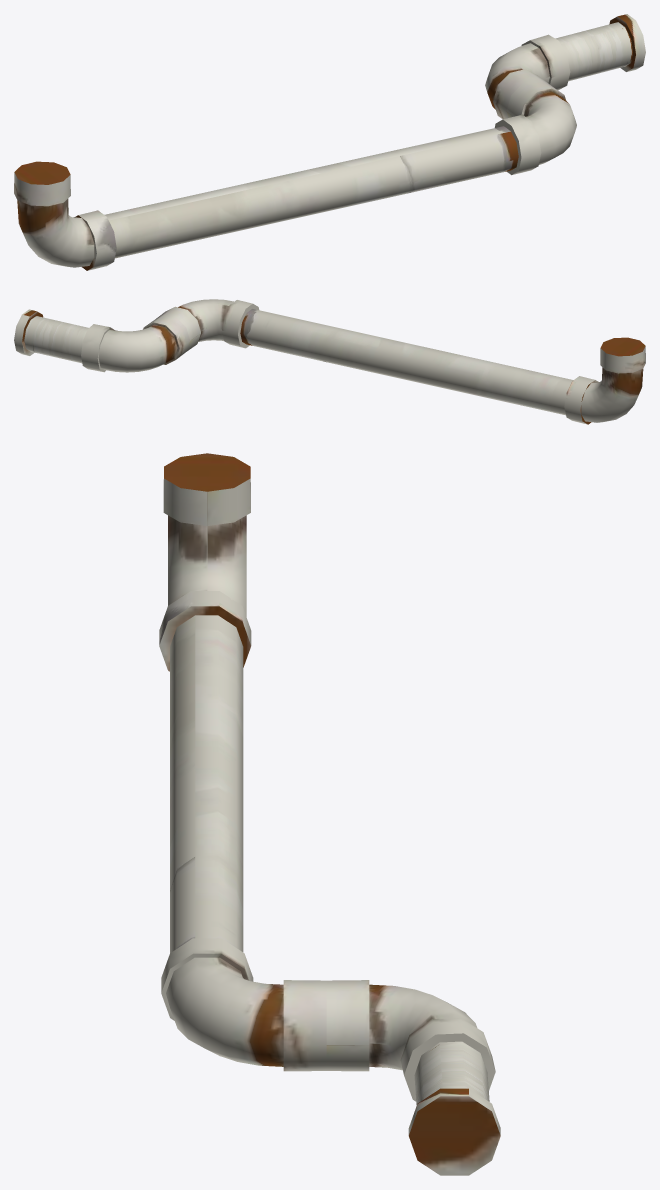
The picture shows the model from 3 angles, top to bottom: view 1: azimuth 30°, elevation 25°; view 2: azimuth 150°, elevation 25°; view 3: azimuth 270°, elevation 25°; orthographic projection. The views are drawn at different scales.
Parts seen in each view (by area): view 1: body0_model0_lod0_mesh0; view 2: body0_model0_lod0_mesh0; view 3: body0_model0_lod0_mesh0.
Boxes of the visible parts, x1,y1,x2,y2 form: body0_model0_lod0_mesh0: [14, 14, 645, 270]; body0_model0_lod0_mesh0: [14, 299, 645, 424]; body0_model0_lod0_mesh0: [159, 453, 500, 1175].
Size of the model in its own units: 139 by 21.6 by 37.08.
Materials: 1 (1 with a texture image).
